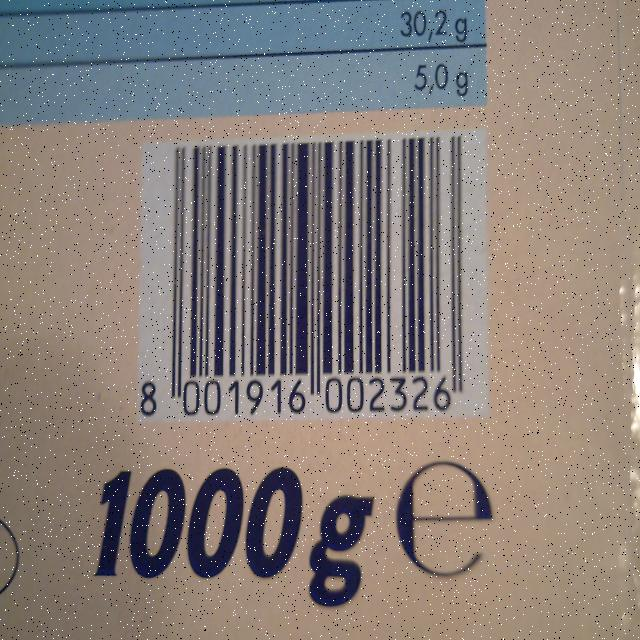barcode: (142, 130, 492, 428)
